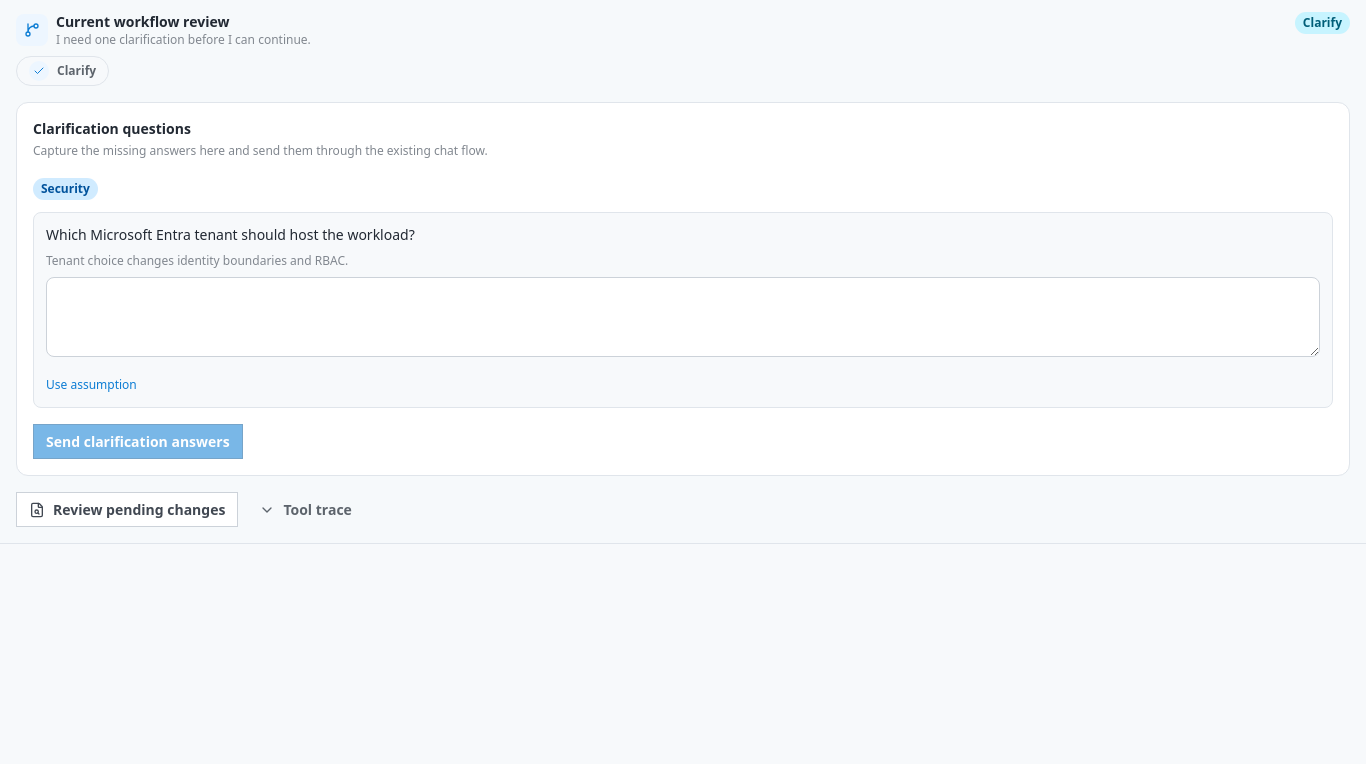
Test: ChatReviewPanel › renders the current workflow review with stages, citations, and tool traces
Expected: the text "Current workflow review" is shown, [56,12,229,31]
Expected: the text "Clarify" below "Current workflow review" is shown, [57,62,96,79]
Click the button "Tool trace". click: (306, 510)
box: [246,492,365,527]
(page scrolled)
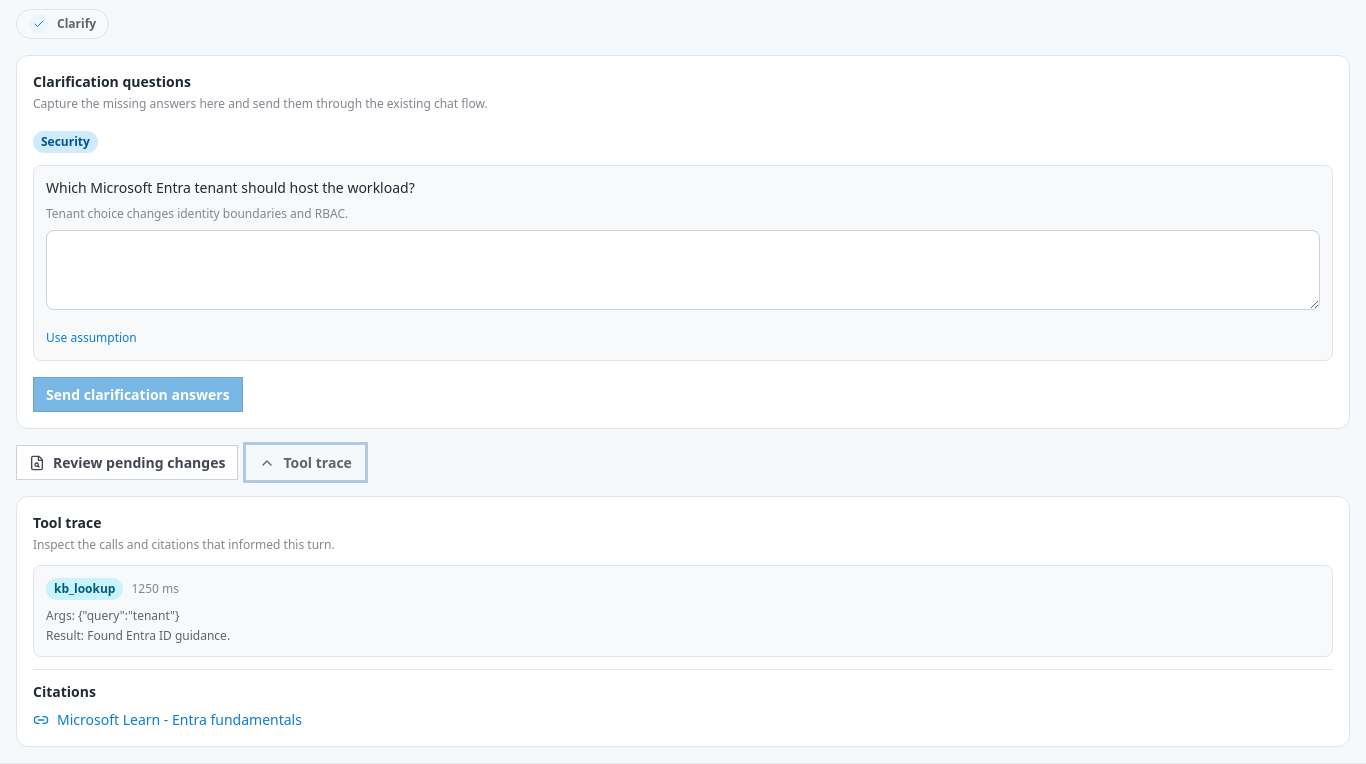
Result: the text "kb_lookup" is shown at [46,578,123,600]
Result: the text "Result: Found Entra ID guidance." is shown at [46,627,230,644]
